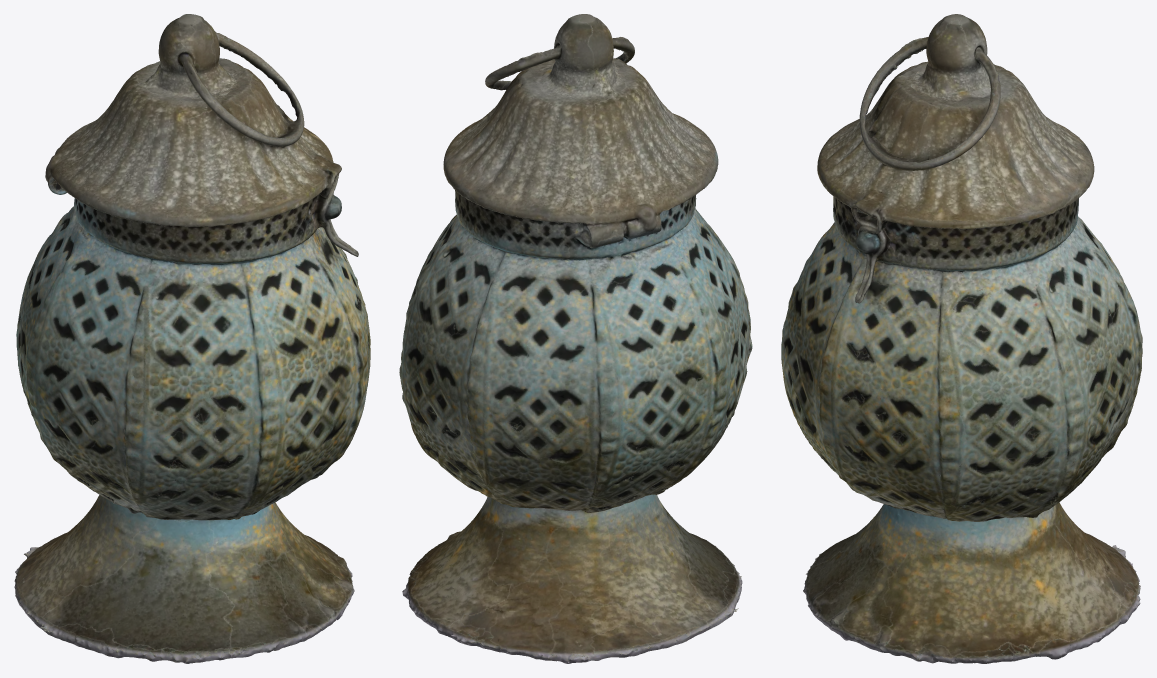
File: sf-brass-hanging-lamp-raw-3d-scan-290cf9.glb
3 renders of one model, left to right at view 1: azimuth 30°, elevation 25°; view 2: azimuth 150°, elevation 25°; view 3: azimuth 270°, elevation 25°, orthographic.
Parts seen in each view (by area): view 1: Object_2; view 2: Object_2; view 3: Object_2.
Boxes of the visible parts, bbox=[...] form: Object_2: bbox=[14, 14, 370, 663]; Object_2: bbox=[399, 14, 752, 663]; Object_2: bbox=[781, 14, 1142, 663].
Size of the model in its own units: 12.76 by 22.5 by 12.72.
Materials: 1 (1 with a texture image).
